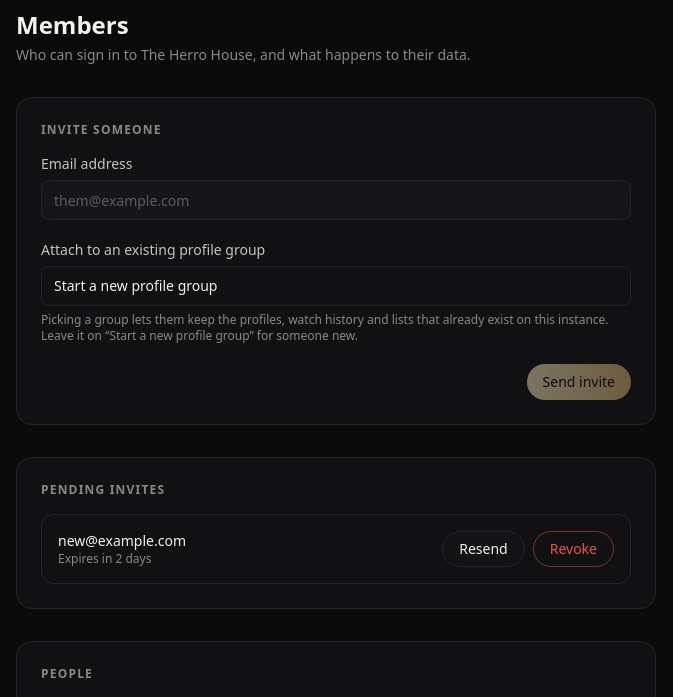
it: MembersView invites › surfaces the invite link when the email could not be delivered
Expected: the text "new@example.com" is shown, [58,531,186,551]
Type "new@example.com" into the field labelled "Email address".
click(336, 200); type("new@example.com")  # box [41,180,631,220]
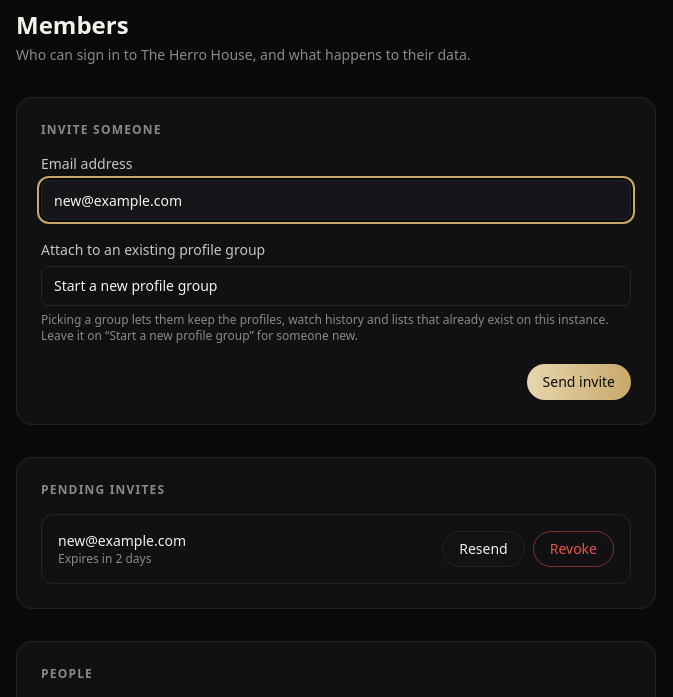
Click the button "Send invite".
click(579, 382)  # box [527,364,631,400]
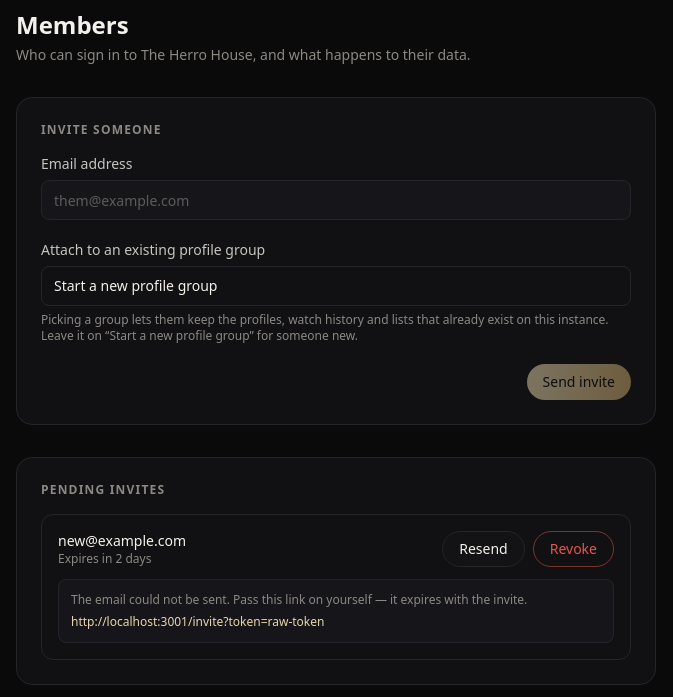
Result: the text "http://localhost:3001/invite?token=raw-token" is shown at [71,613,324,630]
Result: the text "could not be sent" is shown at [71,591,527,608]
